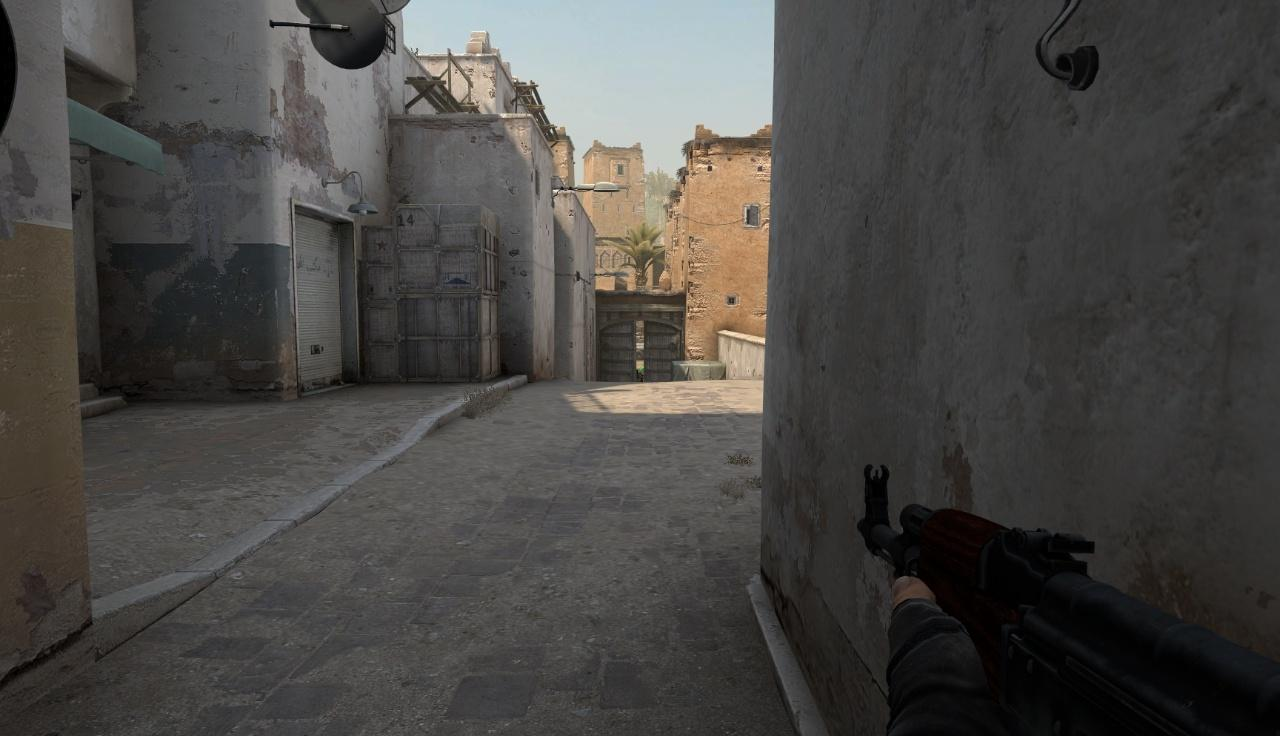rifle: (857, 464, 1280, 736)
